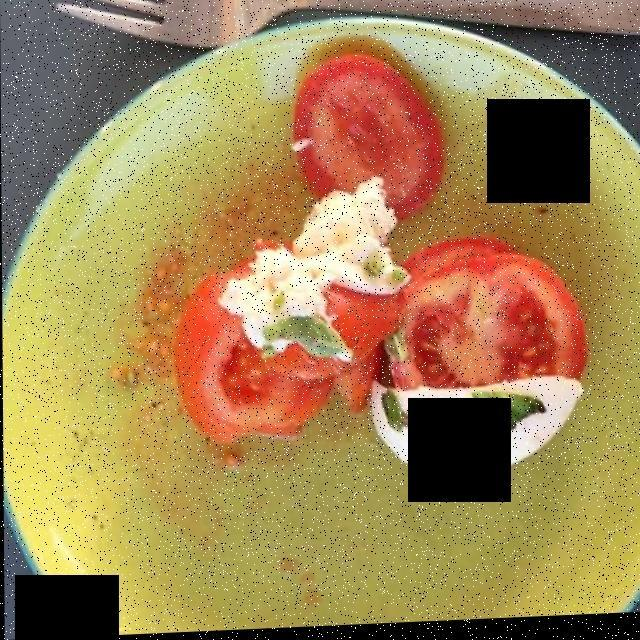salad: (166, 62, 606, 477)
